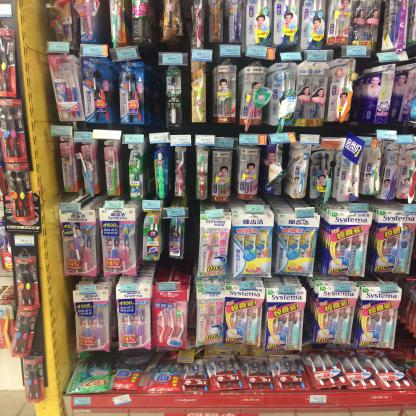Void: (148, 66, 162, 126)
